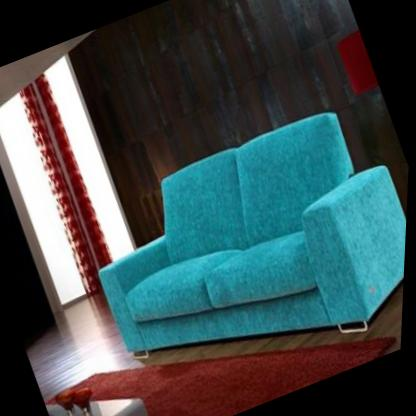Carpet: (107, 337, 398, 416)
Sofa: (66, 86, 413, 416)
